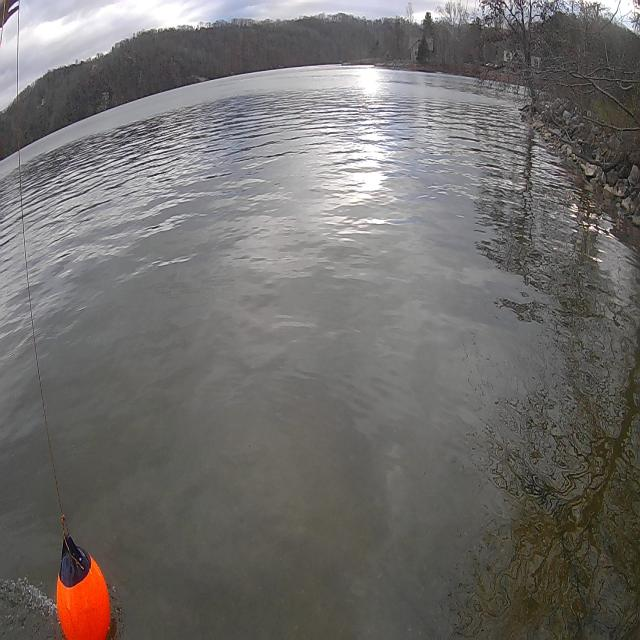Buoy: (56, 548, 114, 640)
